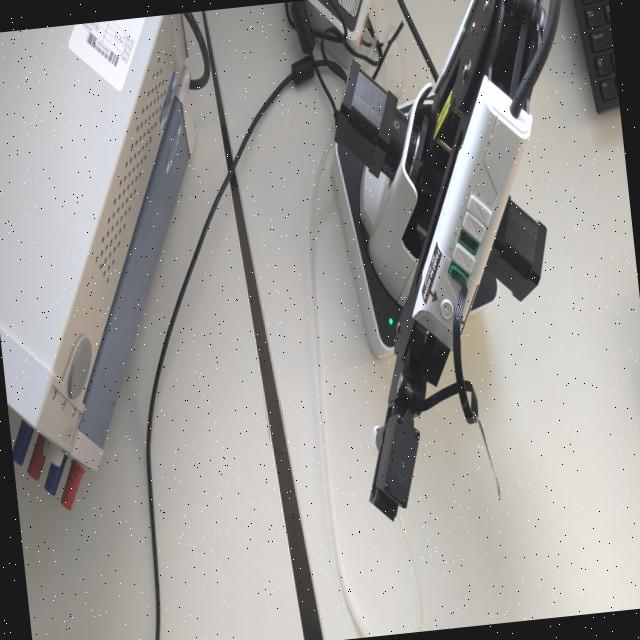Robot-end-effector-HF8z: (360, 406, 430, 533)
